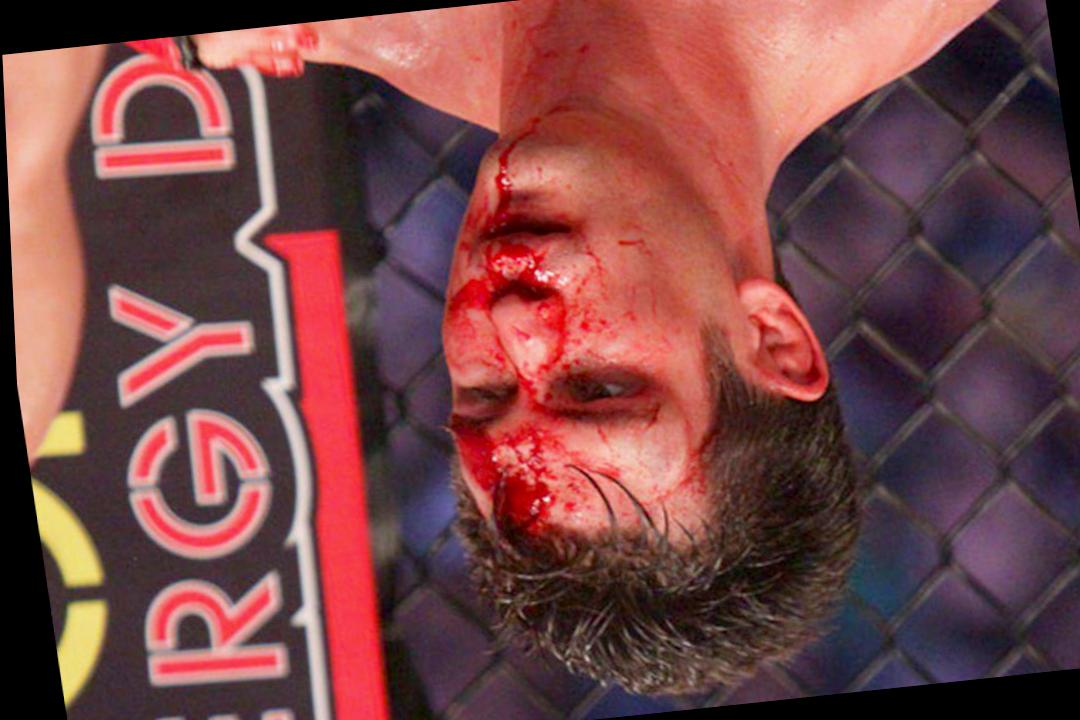Fire: (437, 0, 707, 542)
